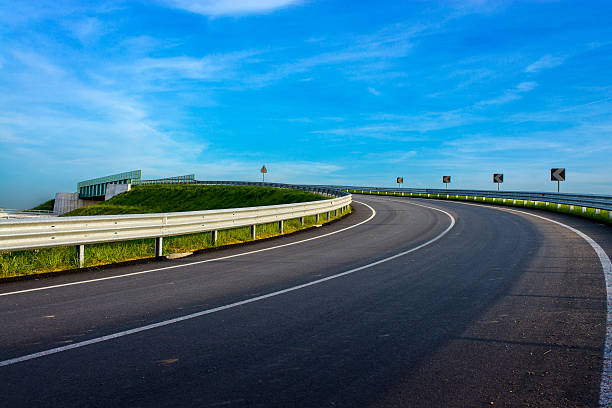leftTrun: (342, 187, 530, 307)
